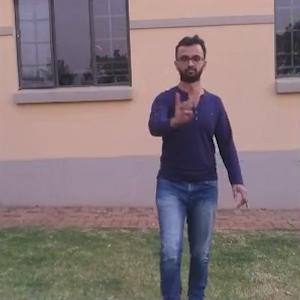takeoff-hand: (169, 87, 198, 131)
